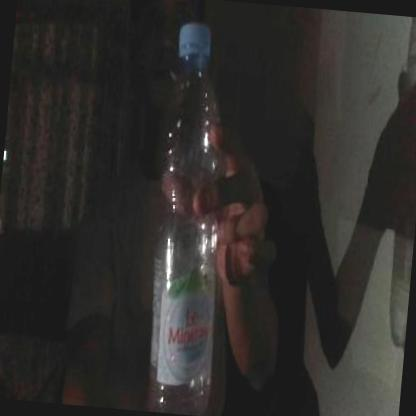plastic_bottles: (140, 17, 243, 416)
